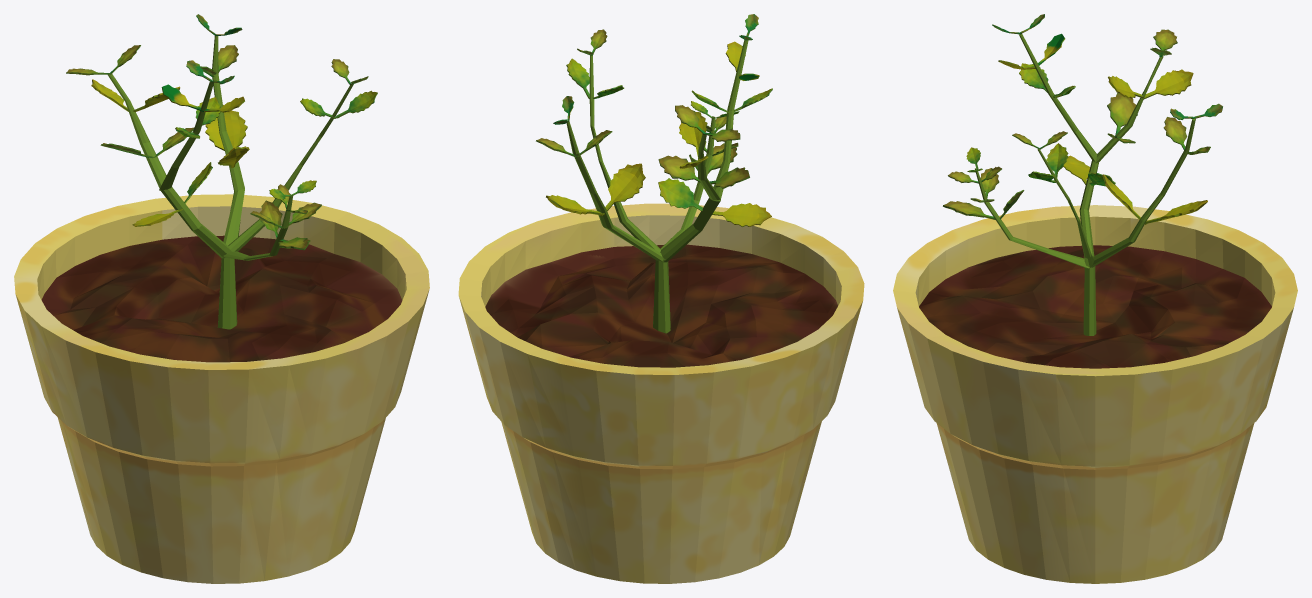
File: Kalanchoe_Horrible_End.glb
3 views of the same model, side by side, from view 1: azimuth 30°, elevation 25°; view 2: azimuth 150°, elevation 25°; view 3: azimuth 270°, elevation 25° (orthographic). The views are drawn at different scales.
Visible parts, largest first — view 1: Pot, Cylinder; view 2: Pot, Cylinder; view 3: Pot, Cylinder.
Boxes of the visible parts, x1,y1,x2,y2 form: Pot: [14, 194, 429, 583]; Cylinder: [66, 14, 377, 329]; Pot: [458, 203, 864, 583]; Cylinder: [536, 14, 772, 333]; Pot: [893, 205, 1297, 583]; Cylinder: [943, 14, 1222, 335].
Bounding box in the file's own units: 2.05 × 2.72 × 2.05.
5 materials, 4 textured.
